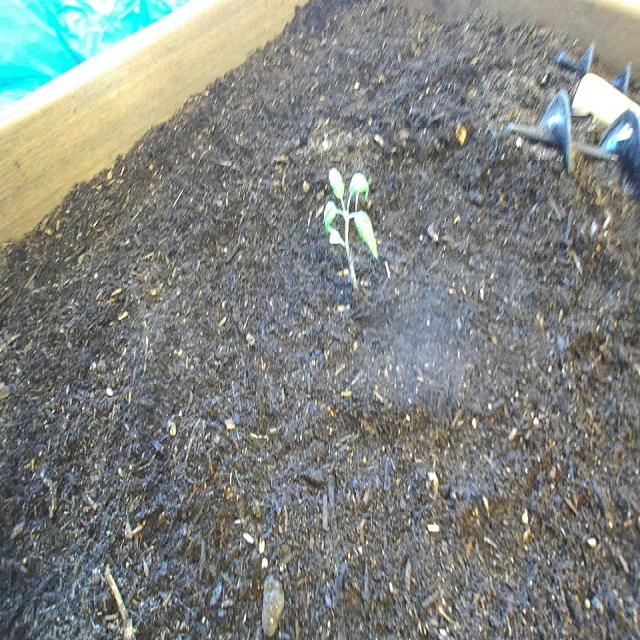Healthy: (323, 163, 380, 290)
